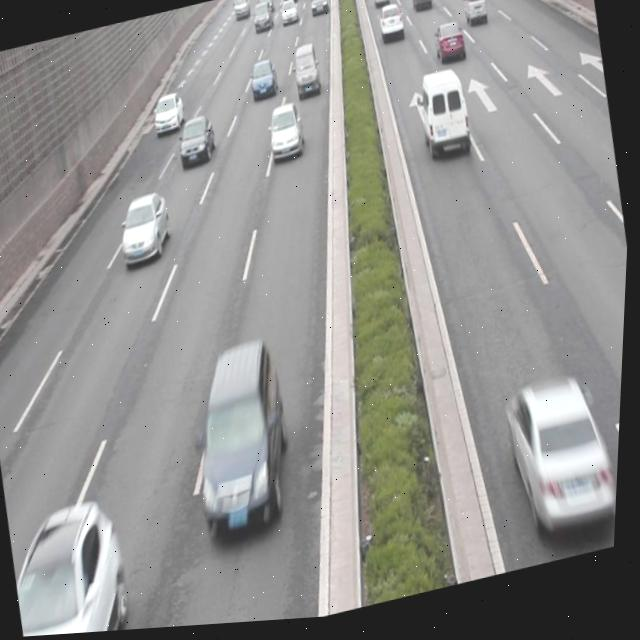car: (179, 340, 307, 553), (501, 374, 626, 542), (9, 497, 145, 638), (115, 194, 176, 271), (265, 107, 307, 165), (175, 117, 219, 170), (431, 24, 467, 72), (151, 93, 188, 138), (246, 60, 279, 102)
truck: (412, 71, 475, 167), (289, 48, 323, 101), (459, 0, 488, 34)
